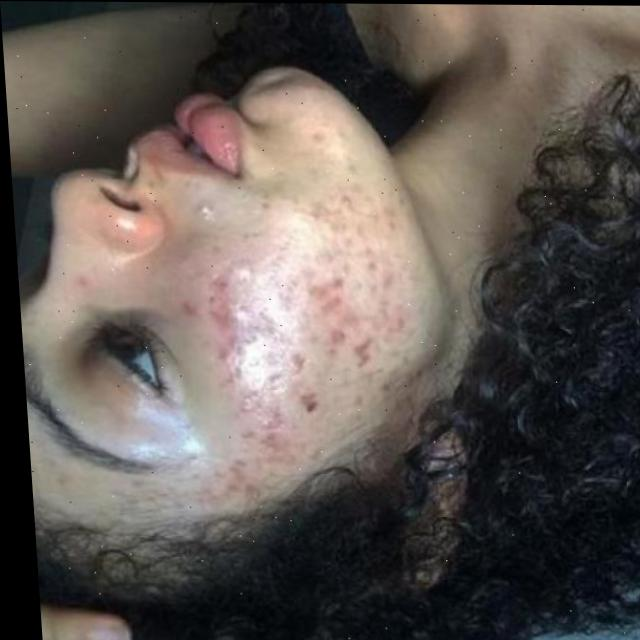Acne: (167, 163, 453, 491)
